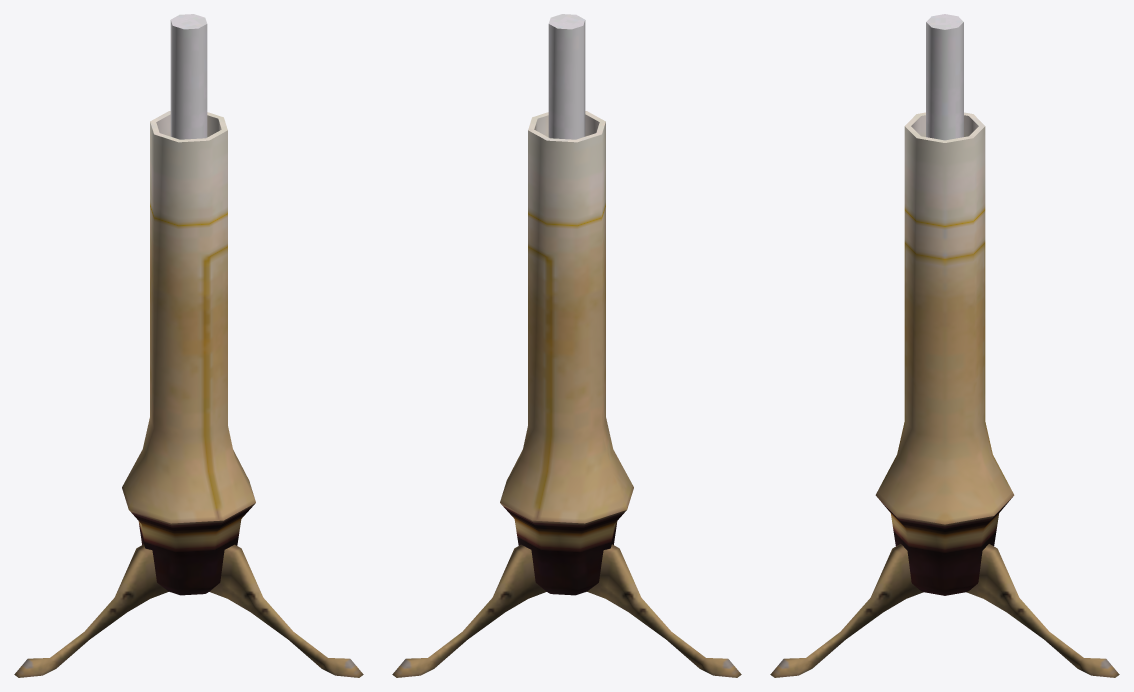
Rendered from frn_all_lamp_tbl_s2_l0.fbx.
3 views of the same model, side by side, from view 1: azimuth 30°, elevation 25°; view 2: azimuth 150°, elevation 25°; view 3: azimuth 270°, elevation 25° (orthographic).
Visible parts, largest first — view 1: mesh_node; view 2: mesh_node; view 3: mesh_node.
Boxes of the visible parts, <box> form: mesh_node: <box>14,14,363,677</box>; mesh_node: <box>392,14,741,677</box>; mesh_node: <box>770,14,1119,677</box>.
Size of the model in its own units: 0.279 by 0.6227 by 0.3221.
Materials: 1 (1 with a texture image).
